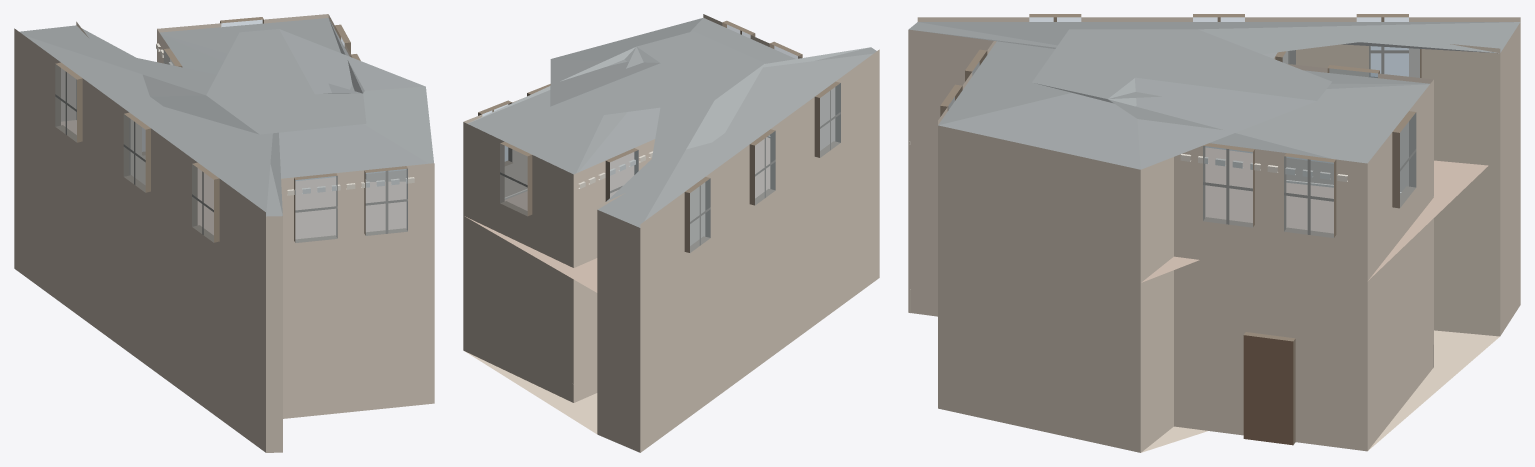
The model's file is W-39-1.masonry_side_narthex.glb.
The picture shows the model from 3 angles, left to right: view 1: azimuth 30°, elevation 25°; view 2: azimuth 150°, elevation 25°; view 3: azimuth 270°, elevation 25°; orthographic projection. The views are drawn at different scales.
Parts seen in each view (by area): view 1: W-39-1.masonry_side_narthex; view 2: W-39-1.masonry_side_narthex; view 3: W-39-1.masonry_side_narthex.
Boxes of the visible parts, x1=… form: W-39-1.masonry_side_narthex: x1=14, y1=14, x2=434, y2=452; W-39-1.masonry_side_narthex: x1=463, y1=14, x2=879, y2=452; W-39-1.masonry_side_narthex: x1=908, y1=14, x2=1520, y2=452.
Bounding box in the file's own units: 6.87 × 6.55 × 11.75.
